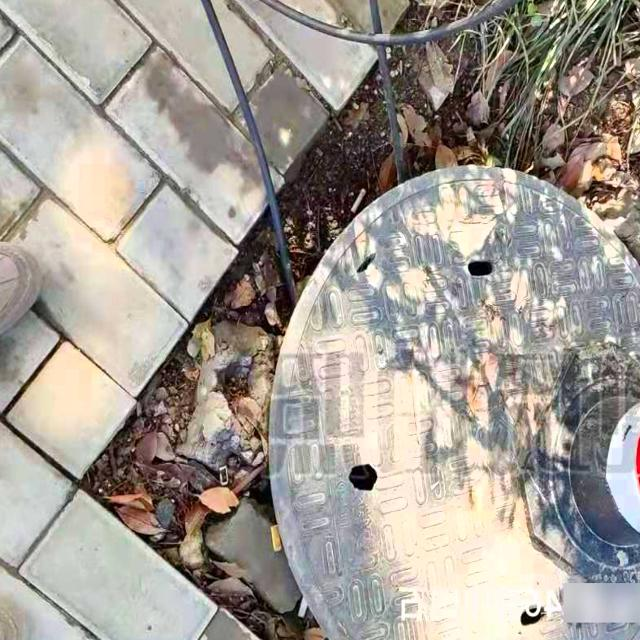broke: (266, 162, 640, 640)
